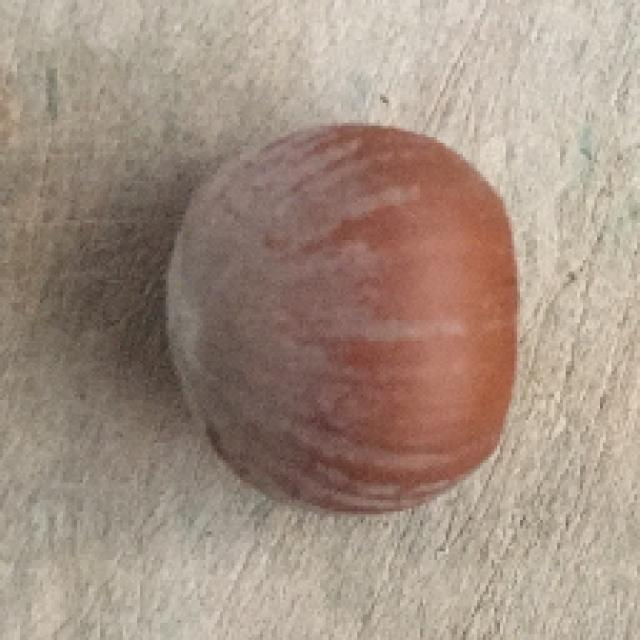qualityHazelnut: (162, 119, 522, 526)
